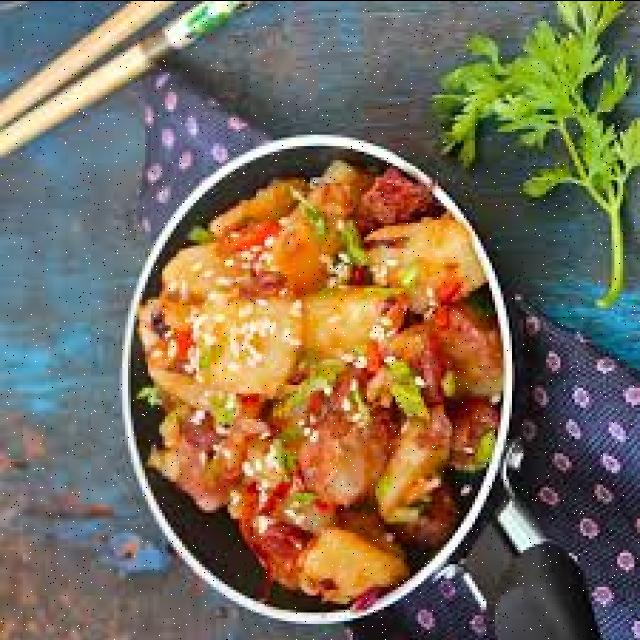Potato: (142, 216, 484, 401), (299, 529, 407, 600)
